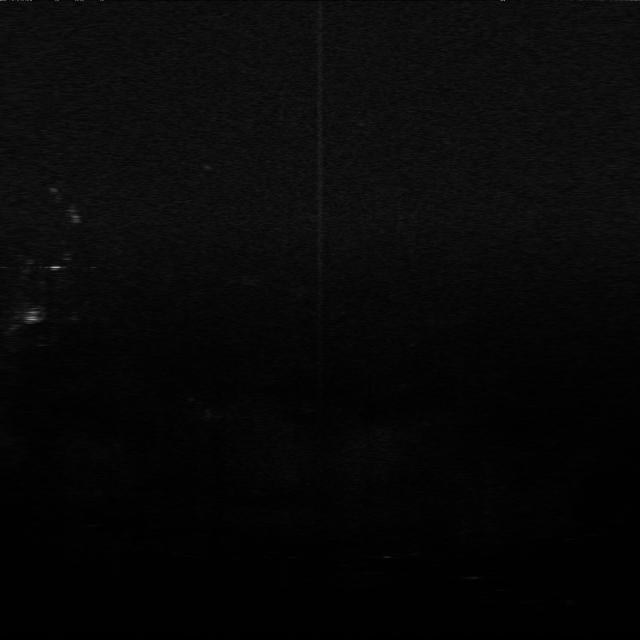rov: (20, 308, 44, 325)
